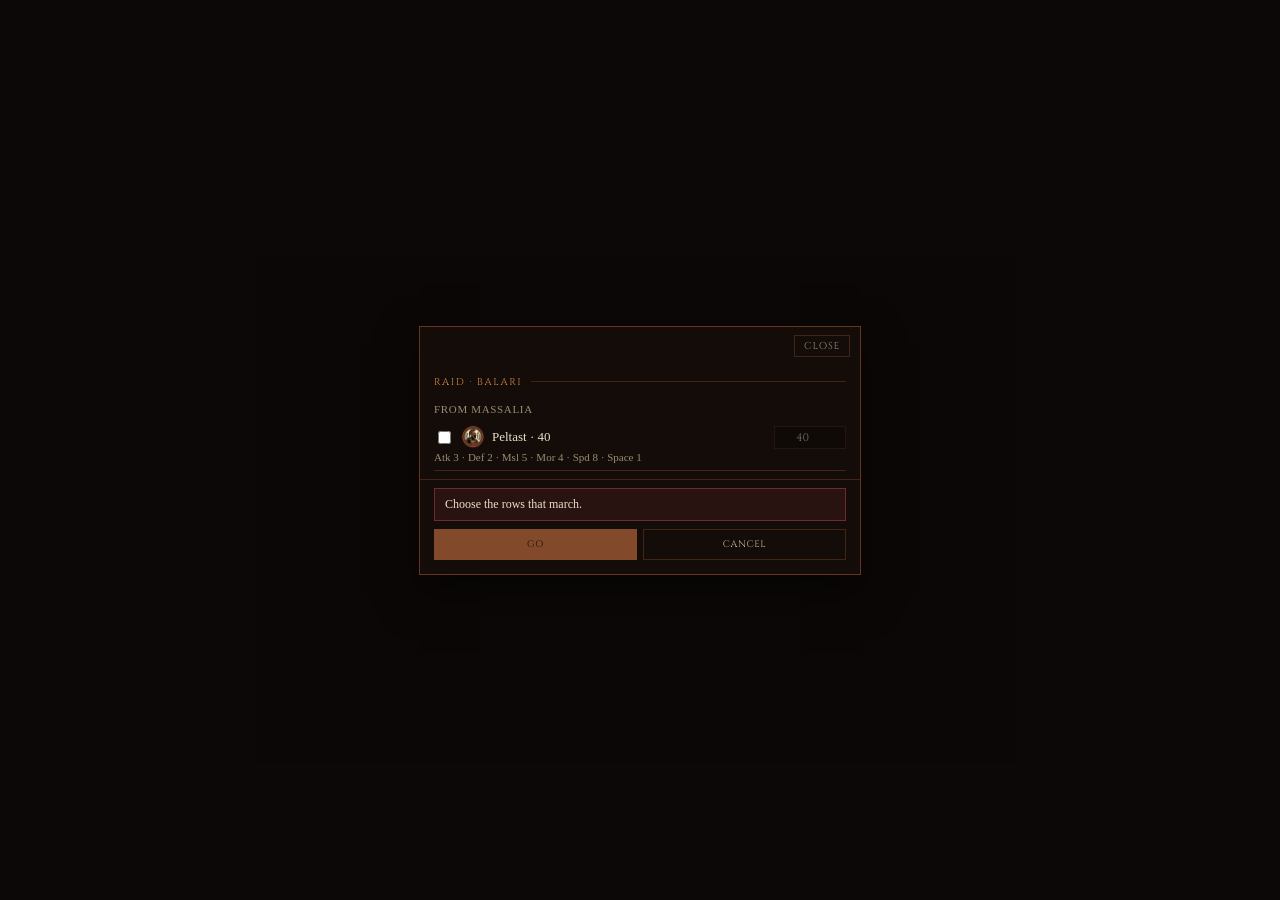
Test: action picker · ships section › short of naval supplies the picker refuses before Go
Click the checkbox named "Peltast, 40": point(444, 437) [438, 430, 451, 444]
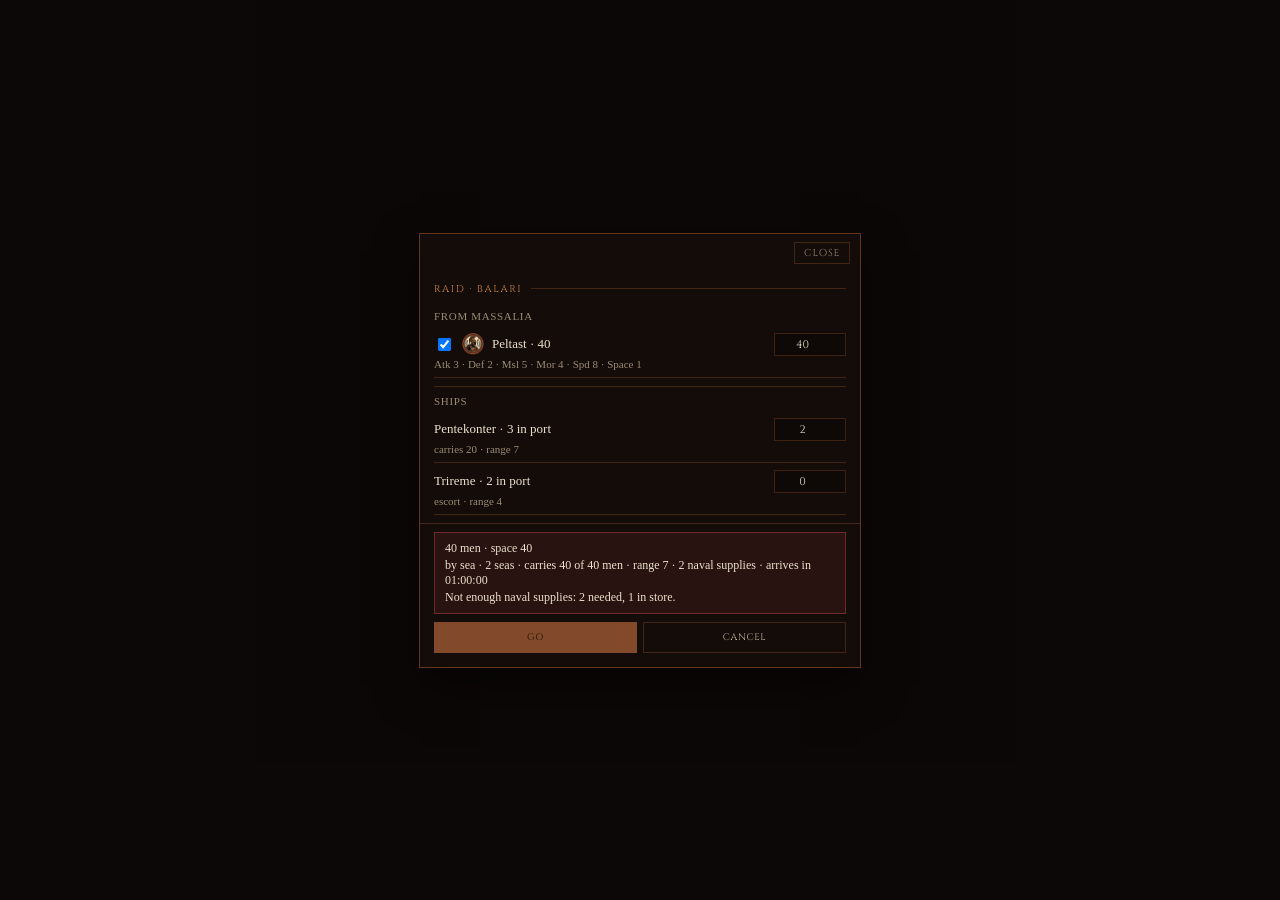
Expected: the button "Go" is disabled, [434, 622, 637, 652]
Now the element with class "w2map-verdict" shows "· 2 naval supplies", box [669, 558, 756, 572]
Now the element with class "w2map-verdict" shows "Not enough naval supplies: 2 needed, 1 in store.", box [445, 590, 676, 604]
